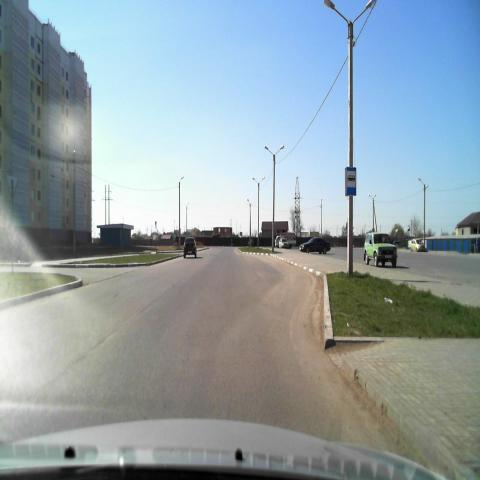5_16: (346, 167, 356, 195)
